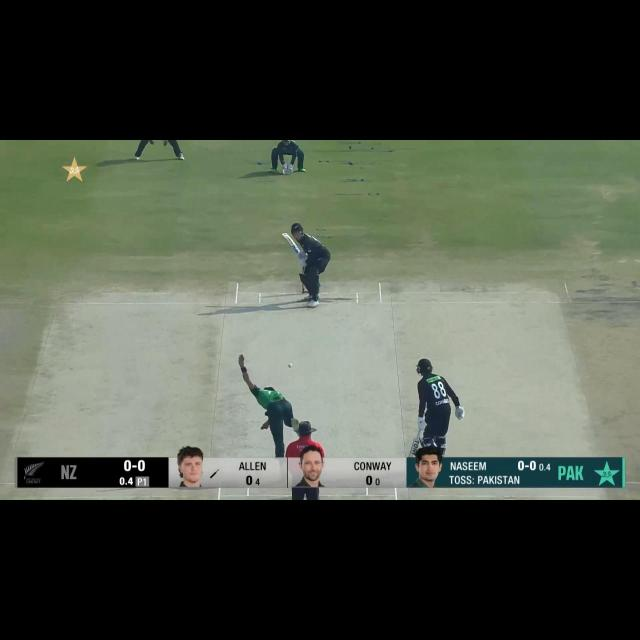bat: (281, 233, 302, 255), (409, 440, 419, 459)
toe: (281, 233, 293, 241)
